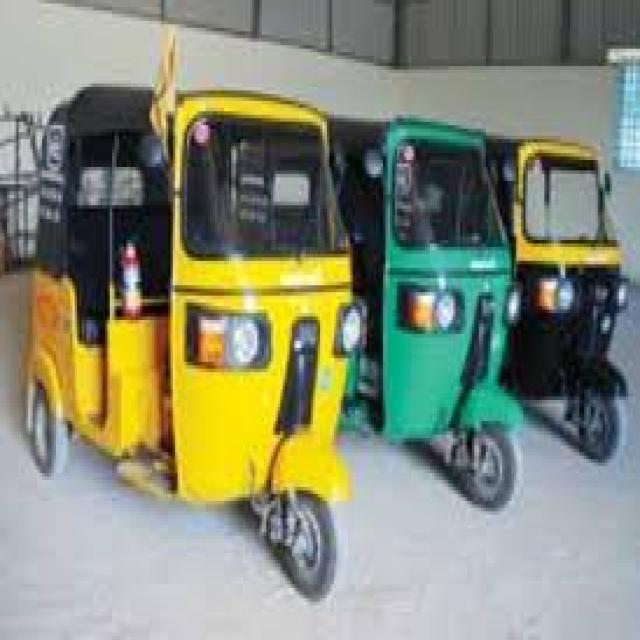tuktuk: (16, 47, 372, 631), (357, 73, 549, 564)
